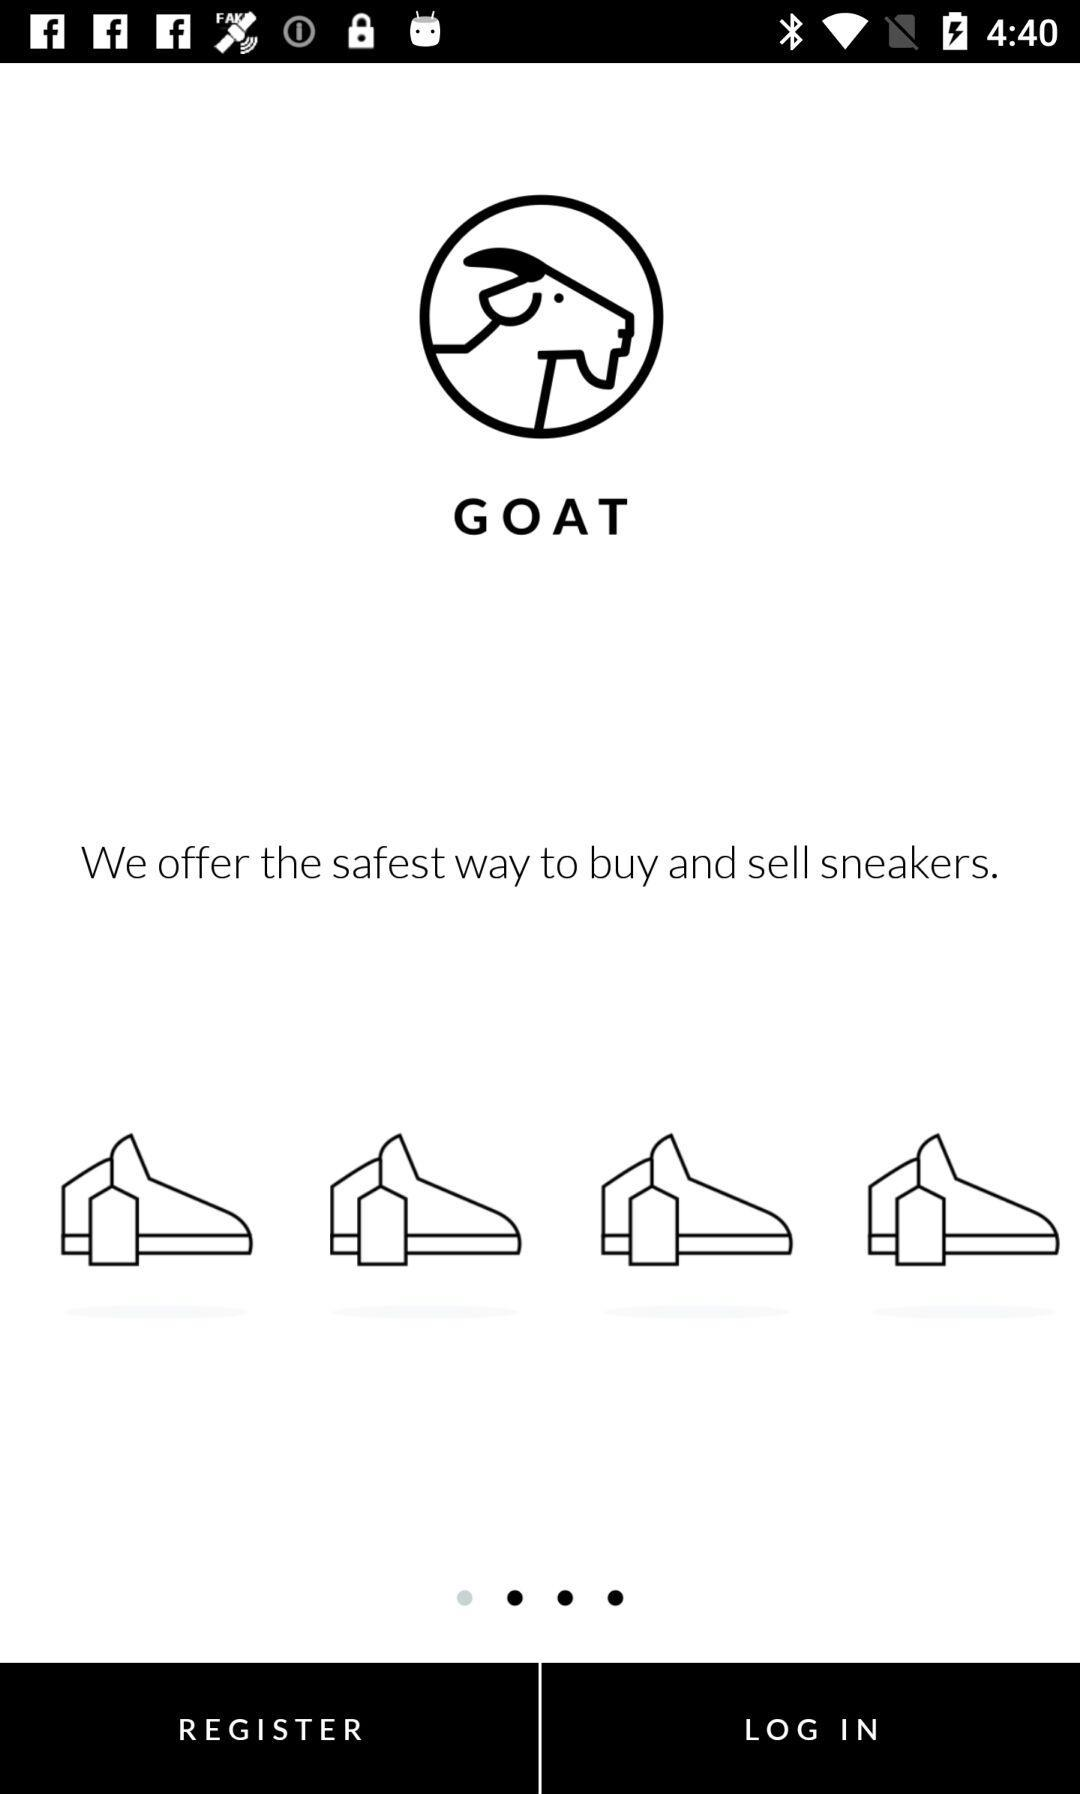Image: (416, 193, 664, 440), (59, 1132, 254, 1321), (600, 1133, 793, 1321), (328, 1132, 521, 1319), (866, 1133, 1060, 1320)
PageIndicator: (456, 1589, 625, 1608)
Text: (81, 844, 997, 888), (455, 497, 629, 536)
TextButton: (542, 1663, 1080, 1794), (1, 1663, 539, 1794)
UpperTaskBar: (1, 1, 1080, 64)
